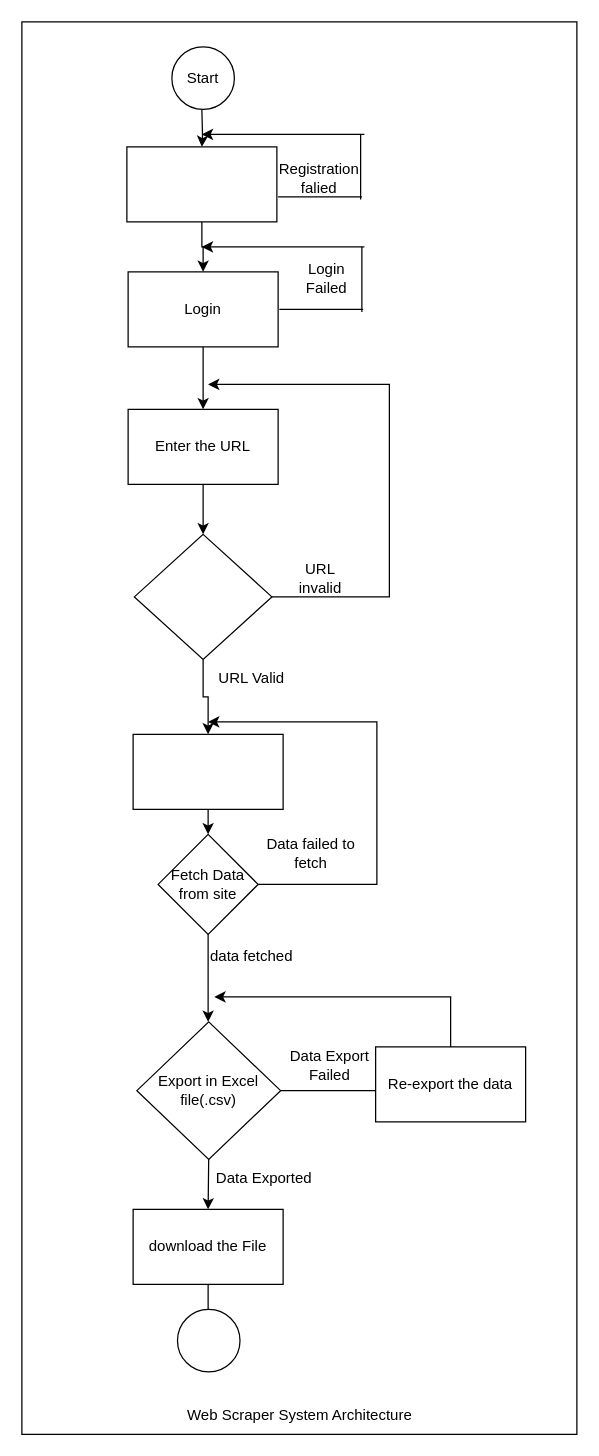
The diagram is 599 pixels wide and 1456 high, and some of its shapes have lost their labels. The shapes that lost their labels are listed below. From the top down, each one's box as (x1, y1, x2, y2) in pixels, then its label:
(126, 146, 277, 222): Register
(133, 533, 272, 659): Validate URL
(132, 733, 283, 809): Run The Script
(176, 1308, 240, 1372): Stop
